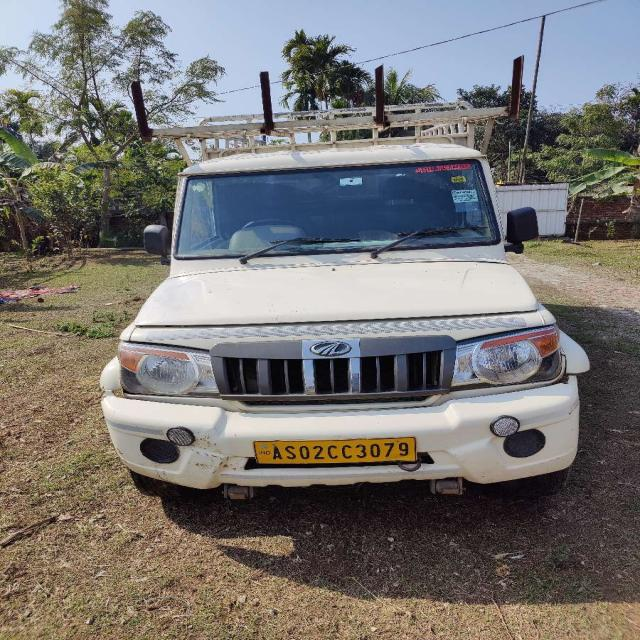light_vehicle: (94, 156, 579, 497)
